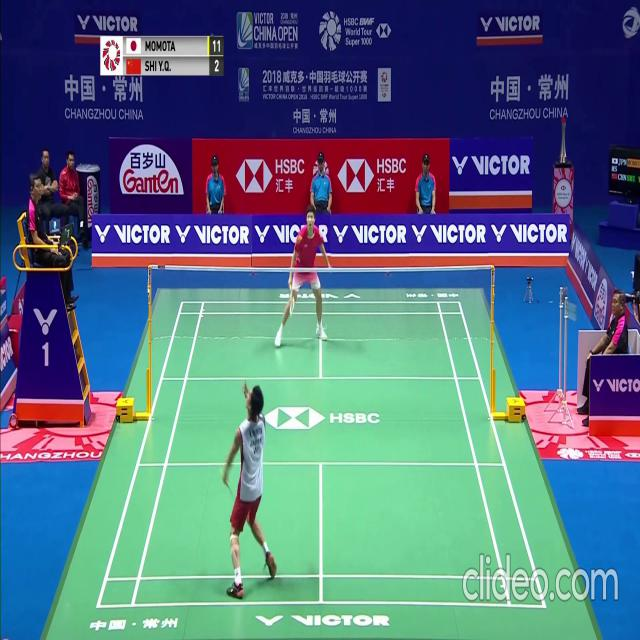Shuttlecock: (210, 29, 215, 37)
